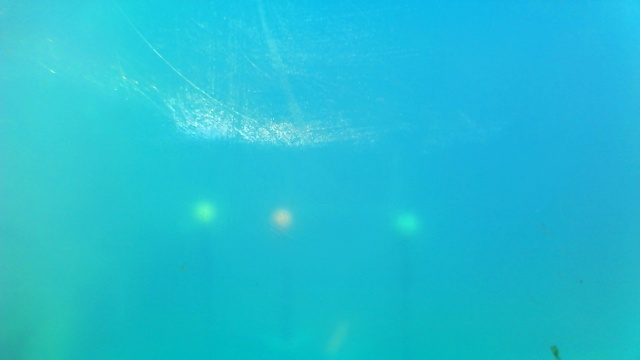buoy_red: (274, 210, 288, 226)
